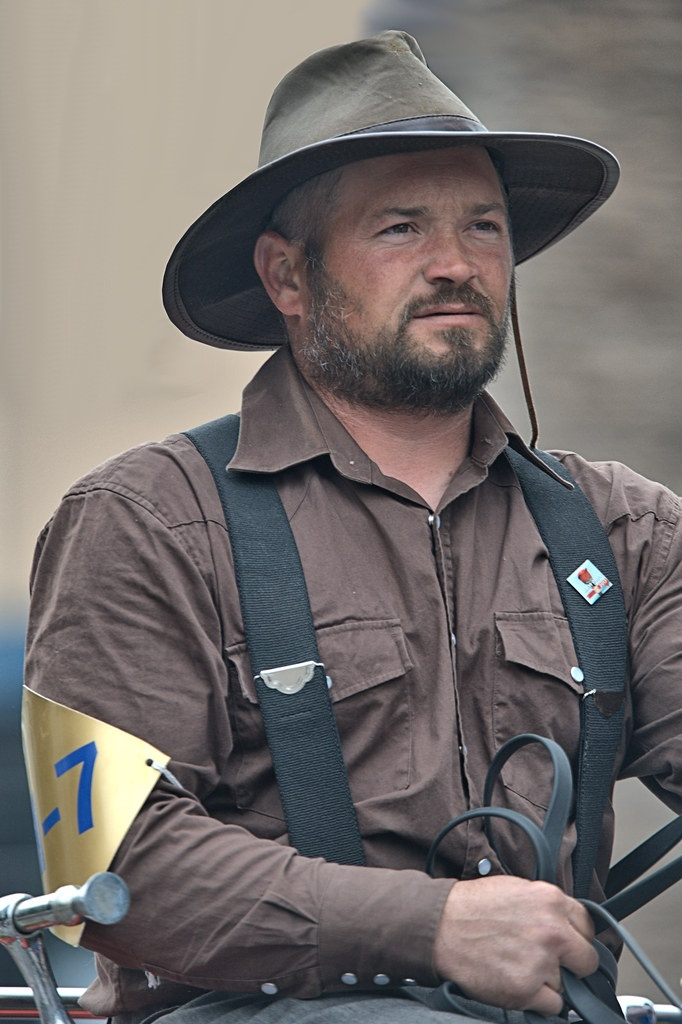without_mask: (248, 133, 530, 411)
